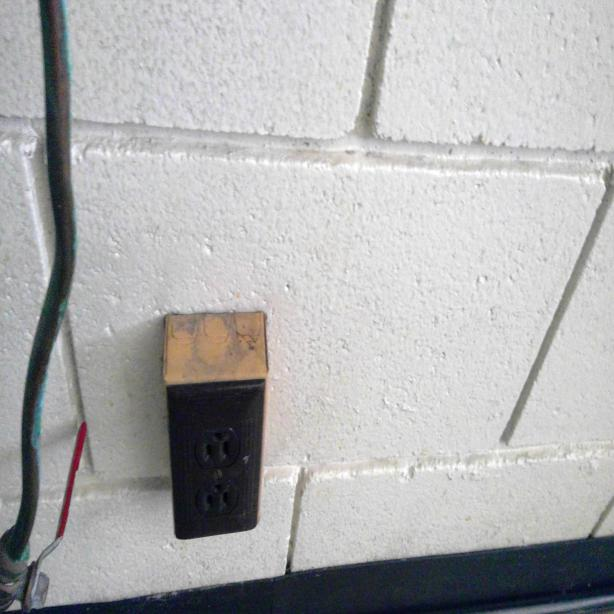typeb: (195, 419, 242, 473)
